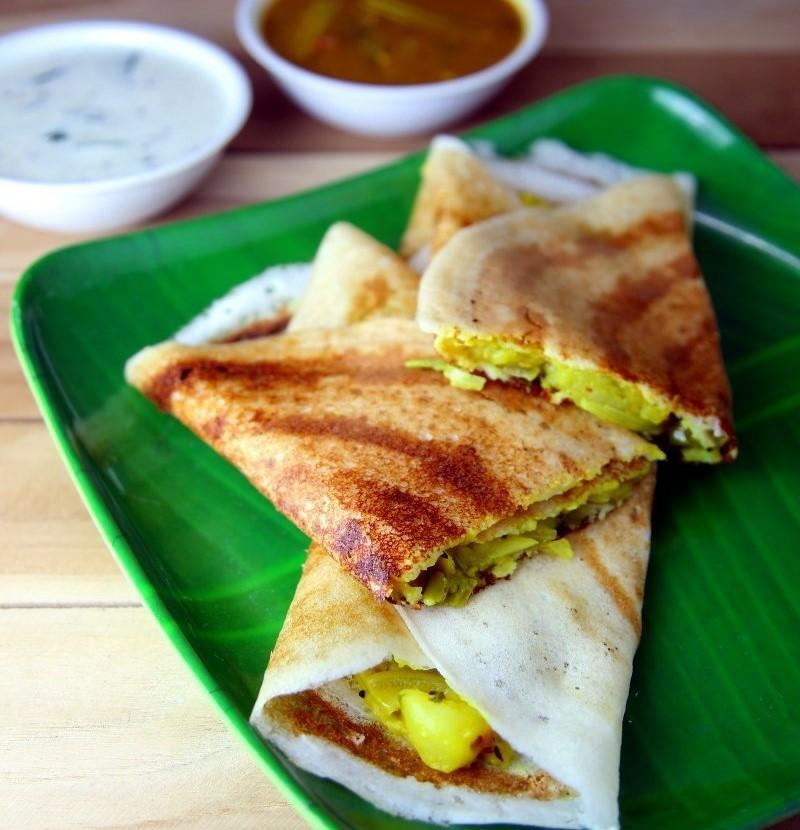Dosa: (249, 137, 692, 830), (123, 221, 654, 609), (415, 175, 741, 466)
